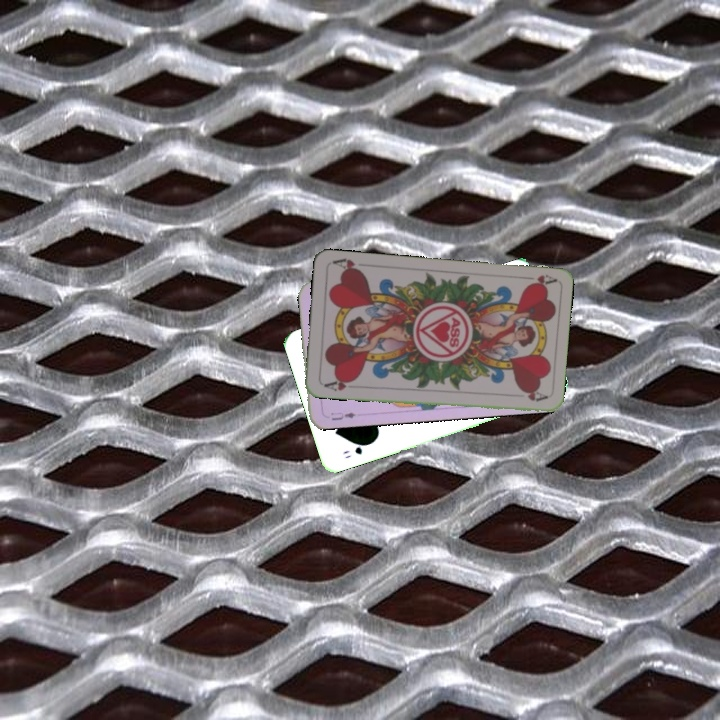EU: (327, 408, 358, 423)
GO: (339, 439, 373, 461)
HA: (516, 270, 557, 290), (320, 374, 359, 394)
